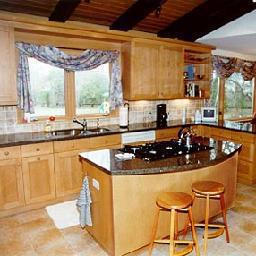Electrodomestico: (123, 142, 218, 161)
Lavaplatos: (43, 114, 117, 145)
